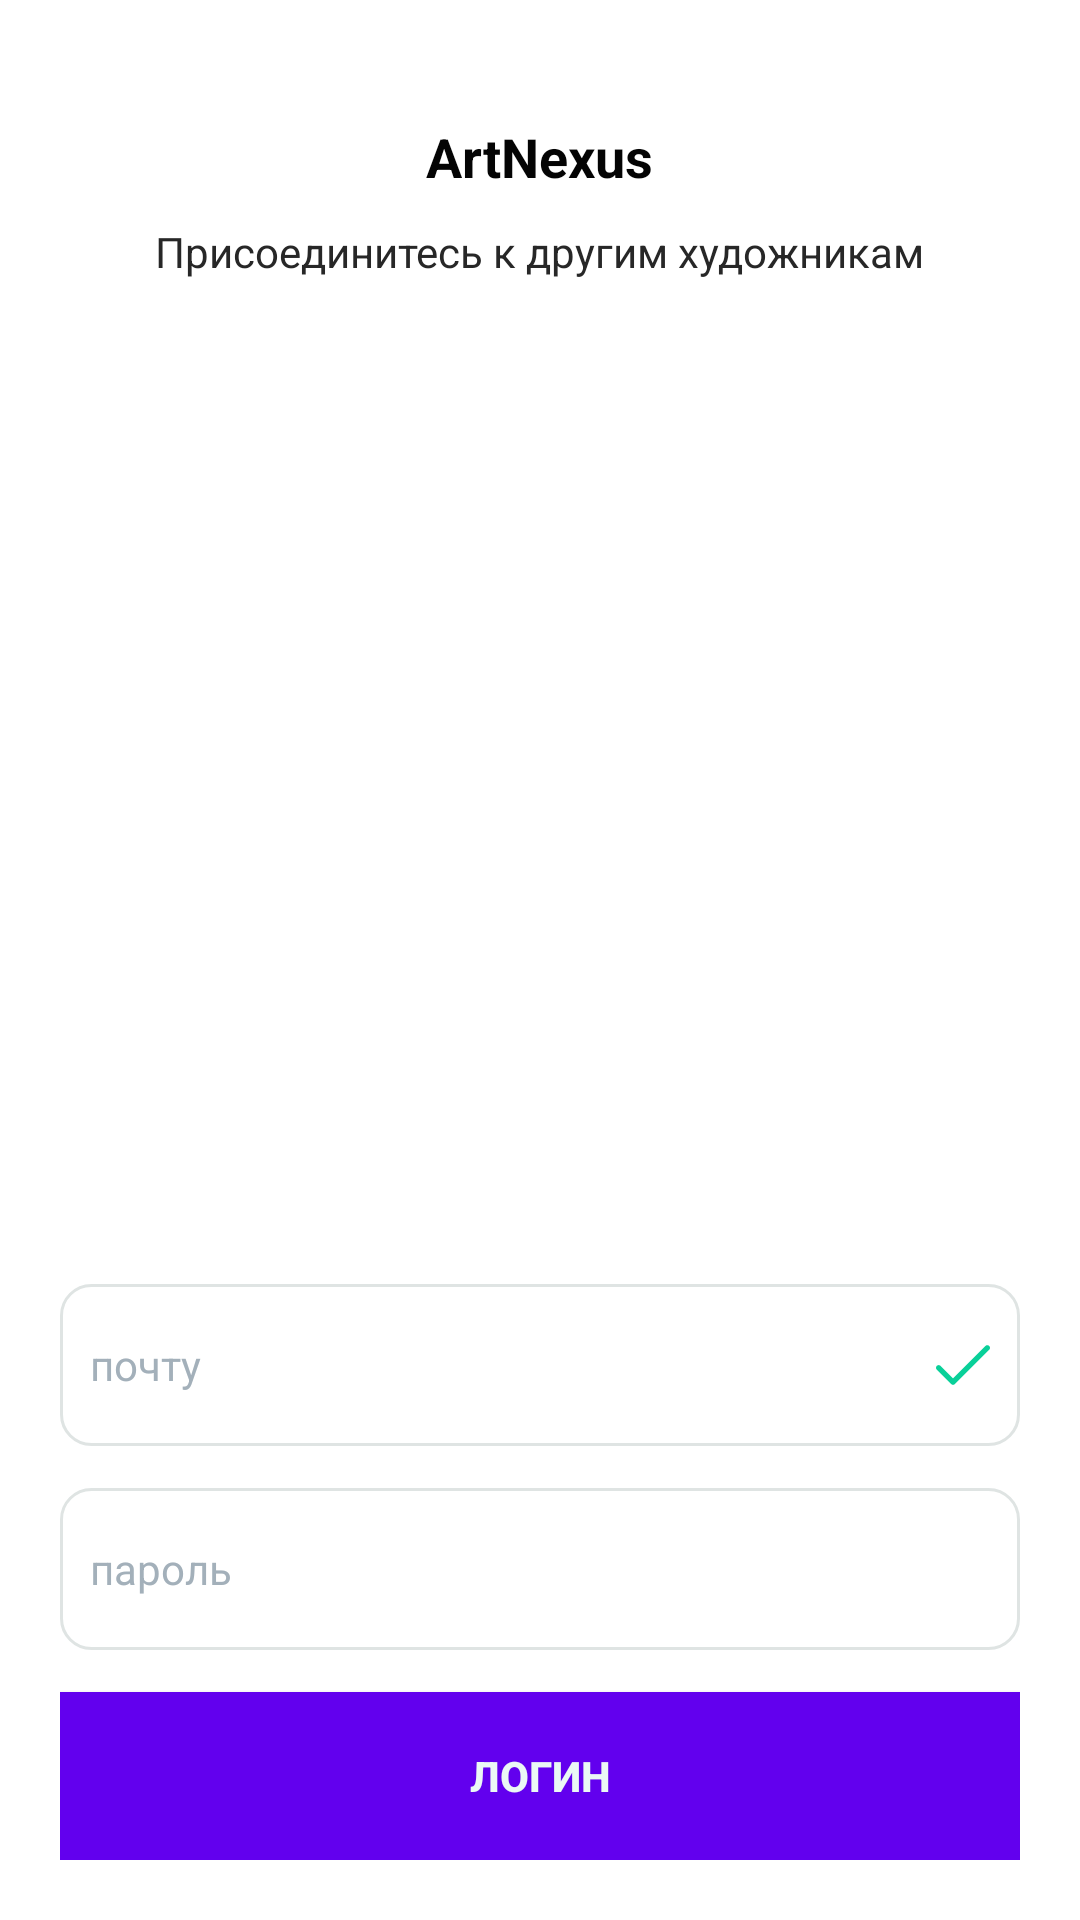

Point at icon controls on the screen. Image size 1080 × 1920, points as (x=x, y=y).
checkmark: (x=963, y=1365)
